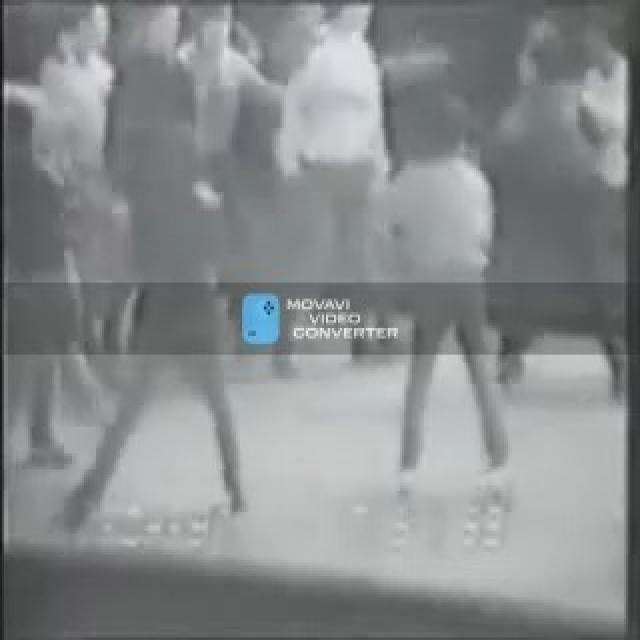non-voilence: (4, 0, 632, 557), (48, 0, 248, 536), (366, 83, 514, 528), (478, 8, 628, 397), (274, 0, 390, 365)
